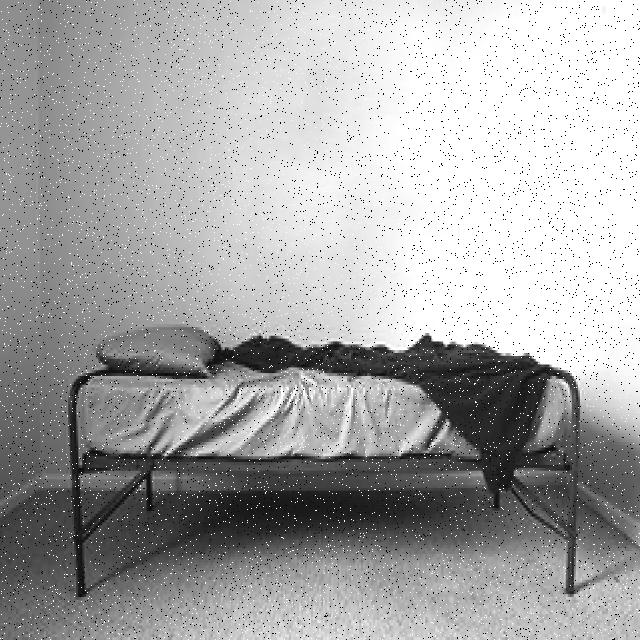bed: (80, 303, 568, 478)
